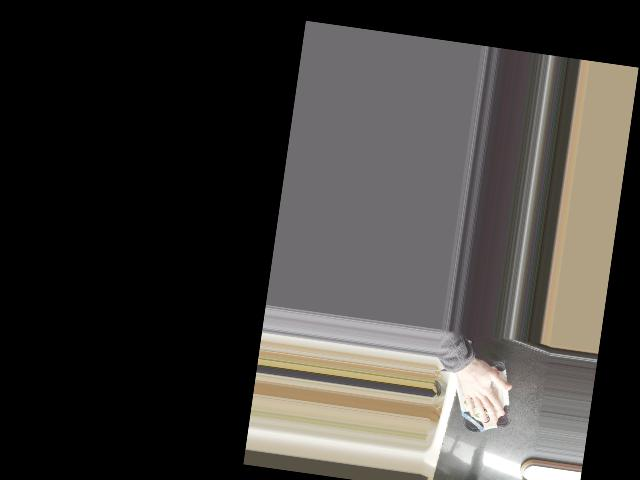cheese: (443, 353, 520, 438)
